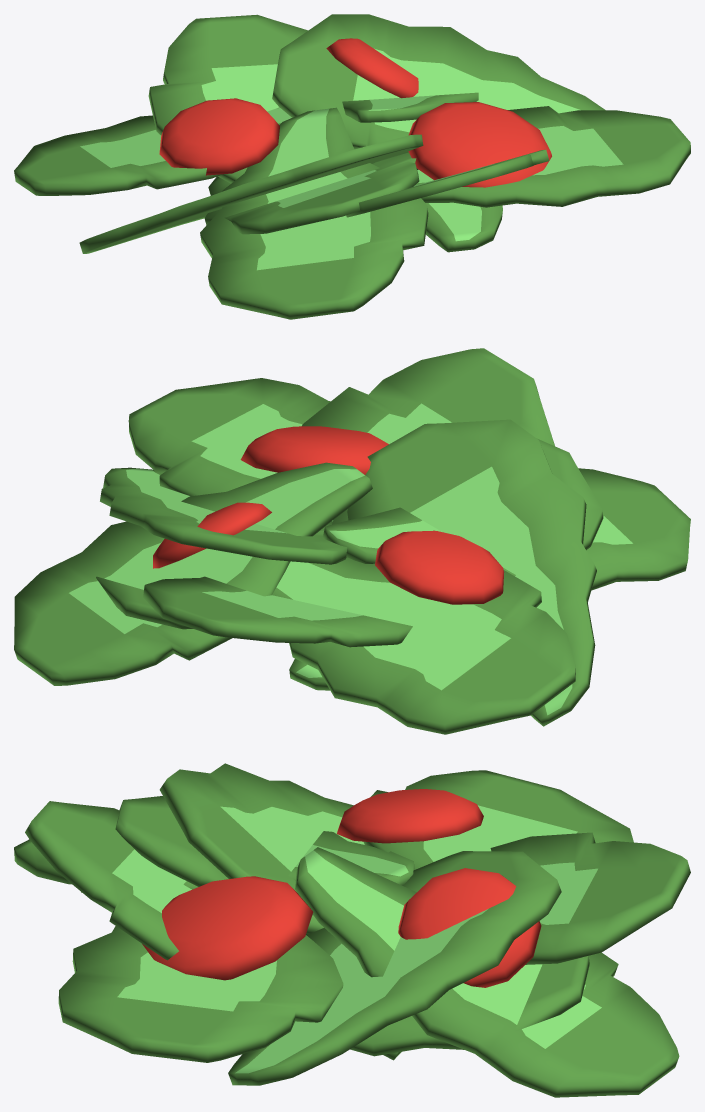
Rendered from SaladTomato.glb.
The picture shows the model from 3 angles, top to bottom: view 1: azimuth 30°, elevation 25°; view 2: azimuth 150°, elevation 25°; view 3: azimuth 270°, elevation 25°; orthographic projection. The views are drawn at different scales.
Visible parts, largest first — view 1: Cube.139; view 2: Cube.139; view 3: Cube.139.
Part boxes in pixels (box(x1,y1,x2,y2)): Cube.139: box(14, 14, 690, 319); Cube.139: box(14, 348, 690, 734); Cube.139: box(14, 763, 690, 1097).
Size of the model in its own units: 0.6298 by 0.1853 by 0.5867.
